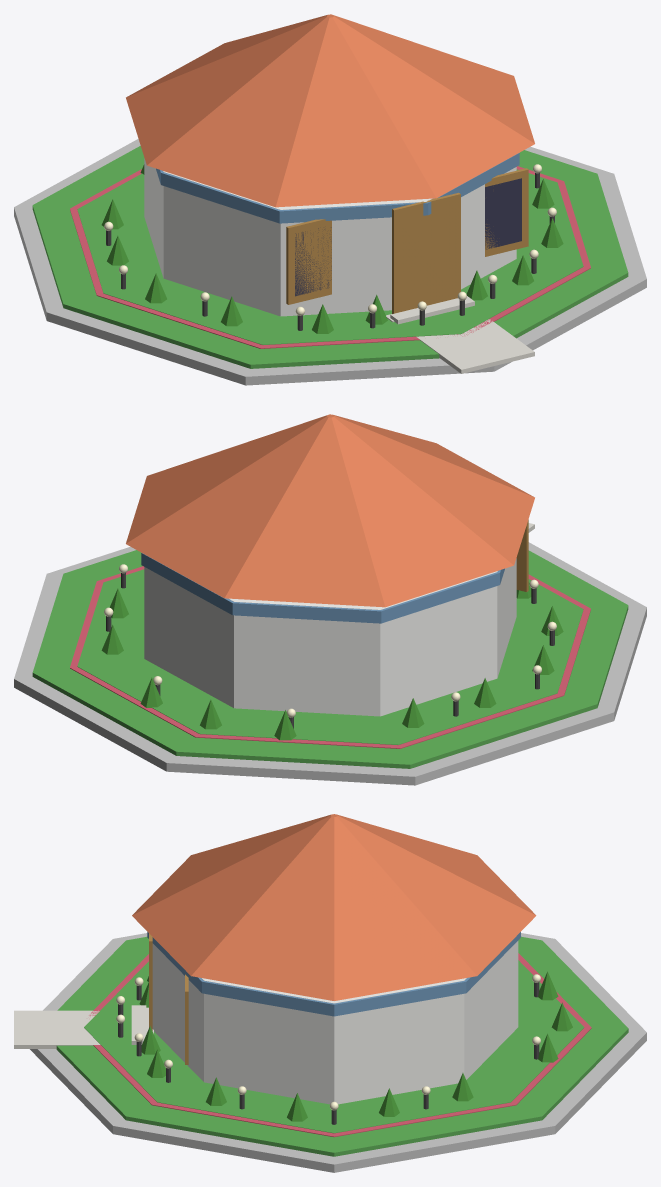
File: Dance_Studio.glb
The picture shows the model from 3 angles, top to bottom: view 1: azimuth 30°, elevation 25°; view 2: azimuth 150°, elevation 25°; view 3: azimuth 270°, elevation 25°; orthographic projection. The views are drawn at different scales.
Parts seen in each view (by area): view 1: Roof, Walls, GrassPad, InnerGrass, Curb, DoorBG, Fascia, Border, WinFL_frame, Path, WinFR_glass, WinFR_frame (+2 smaller); view 2: Roof, Walls, GrassPad, InnerGrass, Curb, Fascia, Border, WinFL_frame; view 3: Roof, Walls, GrassPad, InnerGrass, Curb, Fascia, Border, Path, Step1.
Boxes of the visible parts, x1,y1,x2,y2 form: Roof: (126,14,534,207); Walls: (144,158,516,316); GrassPad: (32,146,628,368); InnerGrass: (77,169,583,344); Curb: (14,139,646,385); DoorBG: (392,192,460,313); Fascia: (156,153,519,223); Border: (70,166,590,348); WinFL_frame: (286,219,331,304); Path: (416,319,534,373); WinFR_glass: (485,178,521,249); WinFR_frame: (485,168,528,256); Roof: (126,414,534,607); Walls: (144,558,516,716); GrassPad: (32,550,628,768); InnerGrass: (77,569,583,744); Curb: (14,542,646,785); Fascia: (141,553,504,623); Border: (70,566,590,748); WinFL_frame: (516,519,528,591); Roof: (132,814,536,1000); Walls: (152,941,518,1104); GrassPad: (56,936,628,1156); InnerGrass: (84,960,584,1133); Curb: (30,933,646,1172); Fascia: (147,932,520,1016); Border: (89,953,591,1137); Path: (14,1010,100,1048); Step1: (131,1005,146,1044).
Bounding box in the file's own units: 17 × 6.75 × 17.2.
